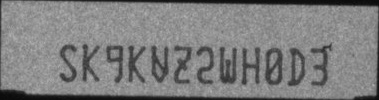0: (264, 47, 283, 85)
2: (195, 43, 213, 85)
3: (308, 46, 327, 87)
9: (105, 43, 124, 84)
D: (287, 47, 305, 86)
H: (241, 45, 260, 85)
K: (80, 42, 99, 82), (128, 44, 147, 83)
S: (57, 43, 76, 82)
V: (150, 43, 169, 83)
W: (219, 44, 238, 84)
Z: (173, 44, 192, 84)
